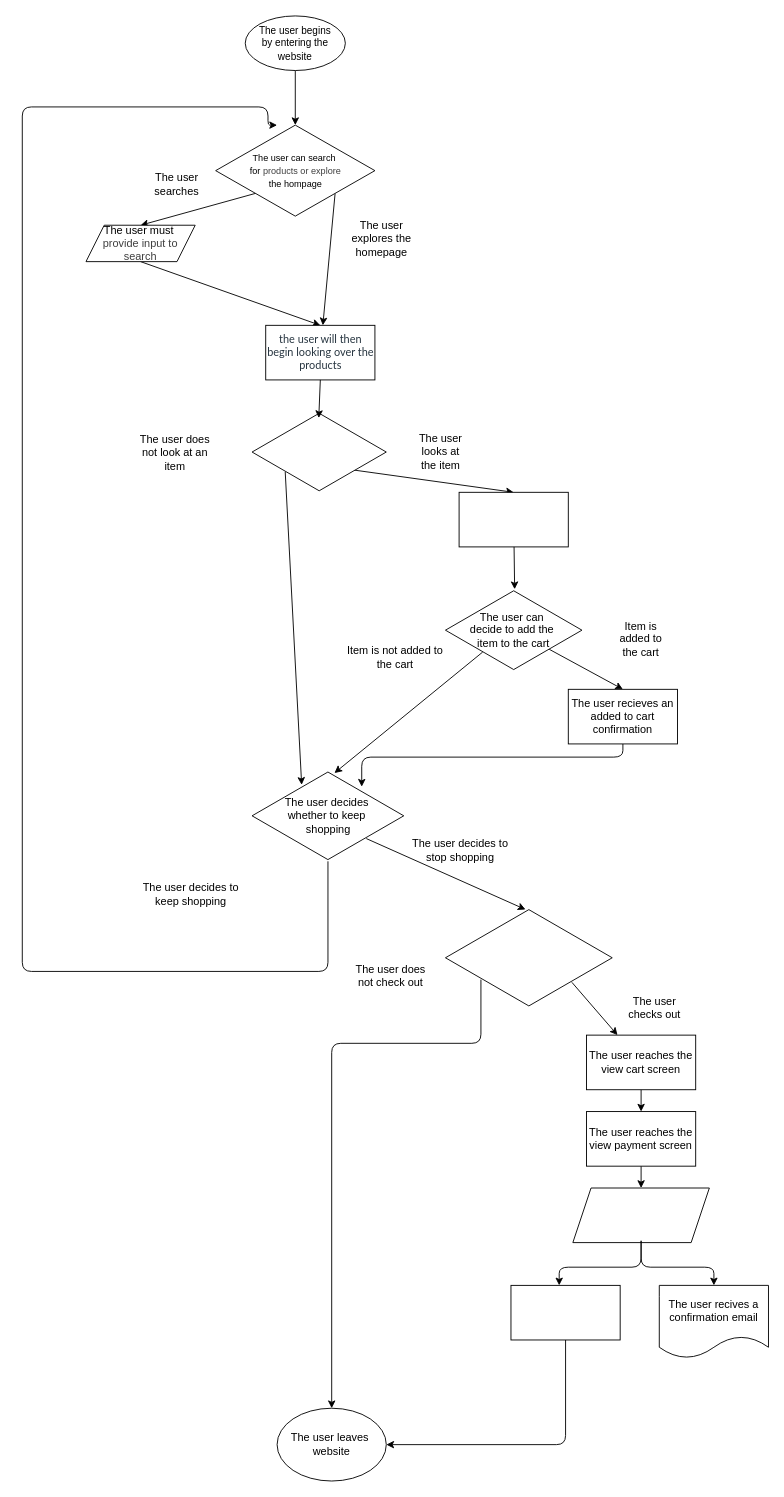
Image size: 784x1497. Some labels were removed from this diagram. Each missing label, with the box of its shape:
The products webpage will open: (458, 491, 568, 547)
The user can decide whether or not to check out: (445, 907, 612, 1008)
The user can look at a specific item: (251, 411, 386, 492)
The user gives their payment information: (572, 1187, 709, 1243)
The user goes to the order confirmation screen: (510, 1284, 620, 1340)
